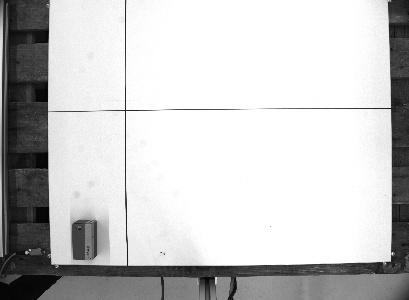b3: (70, 218, 99, 261)
